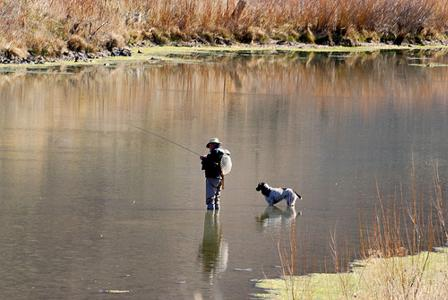person: (200, 138, 227, 213)
